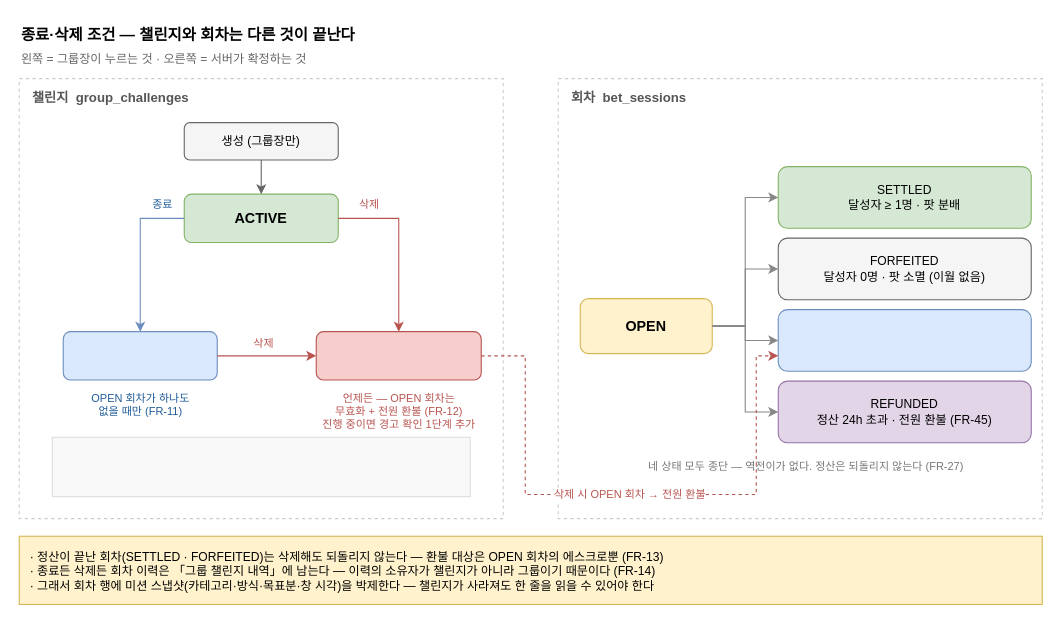
Image size: 1062x624. Some labels were removed from this diagram. Here are the shapes that lost their labels. From the top down, the centre of each, then its label:
At [139,355]: "ENDED".
At [398,355]: "DELETED".
At [904,340]: "VOIDED 참가 마감 시 참가자 < 2명 · 전액 환불".
At [260,466]: "만들면 통째로 불변 (FR-10) 카테고리 · 방식 · 요일 · 시간대 · 목표분 · 내기 켤지 여부 · 참가비 바꾸려면 삭제하고 새로 만든다".
